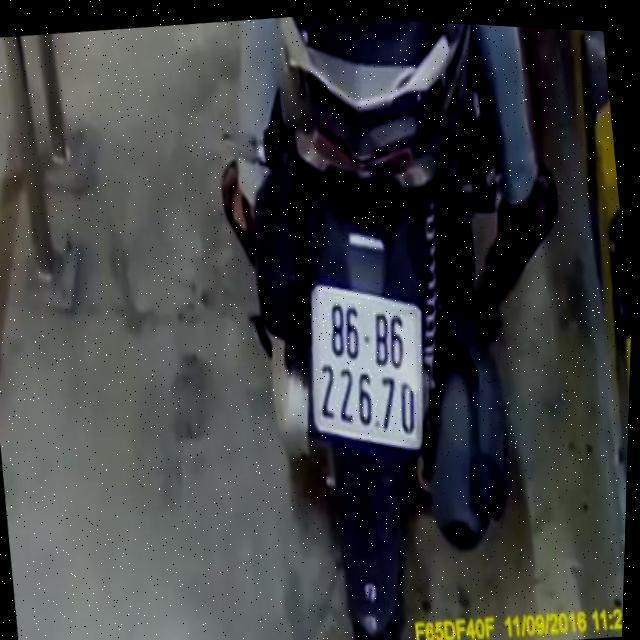motorcycle: (205, 12, 551, 640)
plate: (293, 267, 441, 468)
